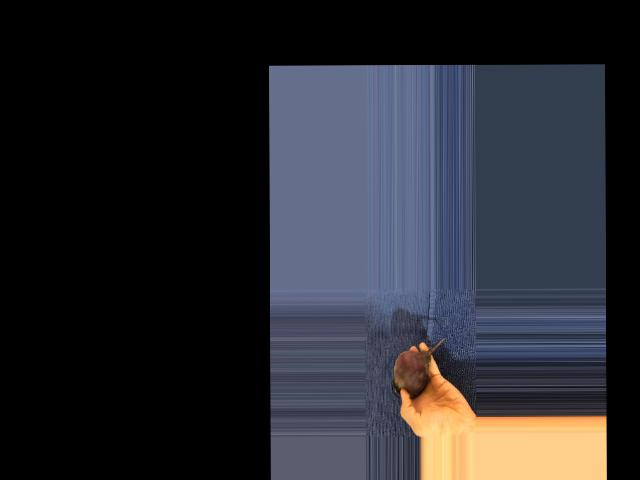beet: (391, 337, 446, 398)
